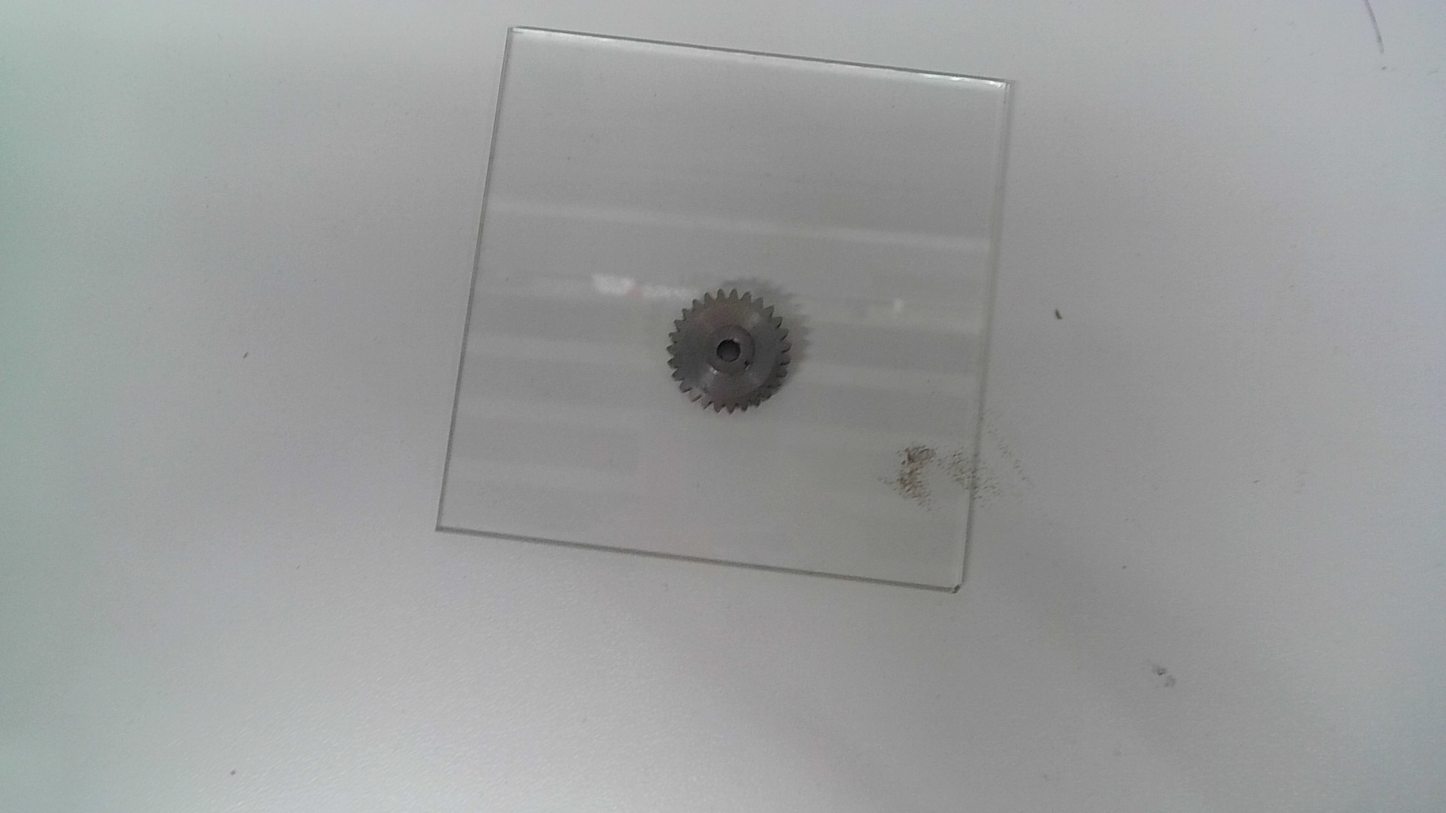gear: (664, 287, 791, 415)
